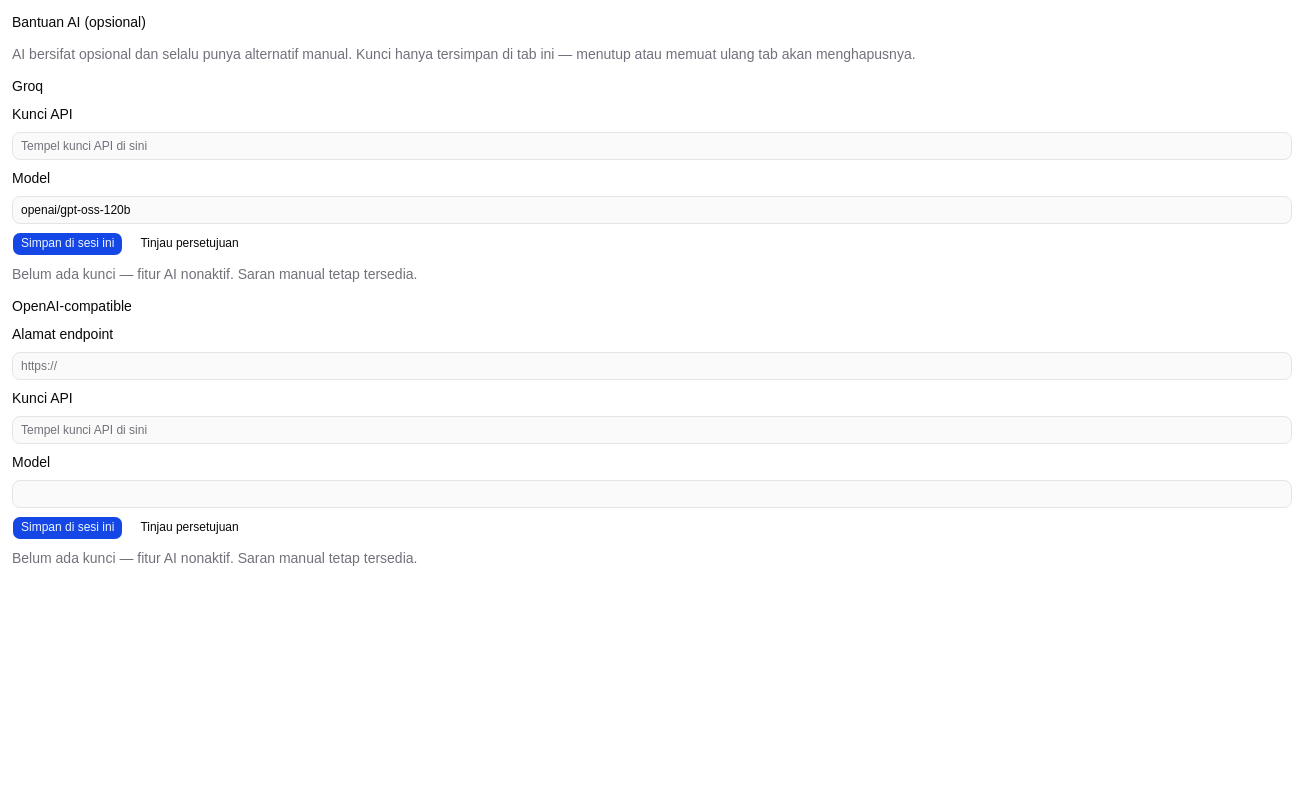
AiSettings (Task 18, FR-407/408/110) › rejects invalid endpoints and incomplete forms before saving
The width and height of the screenshot is (1304, 812).
Type "http://example.com" into the field labelled "Alamat endpoint" at (652, 366), box [12,352,1292,380]
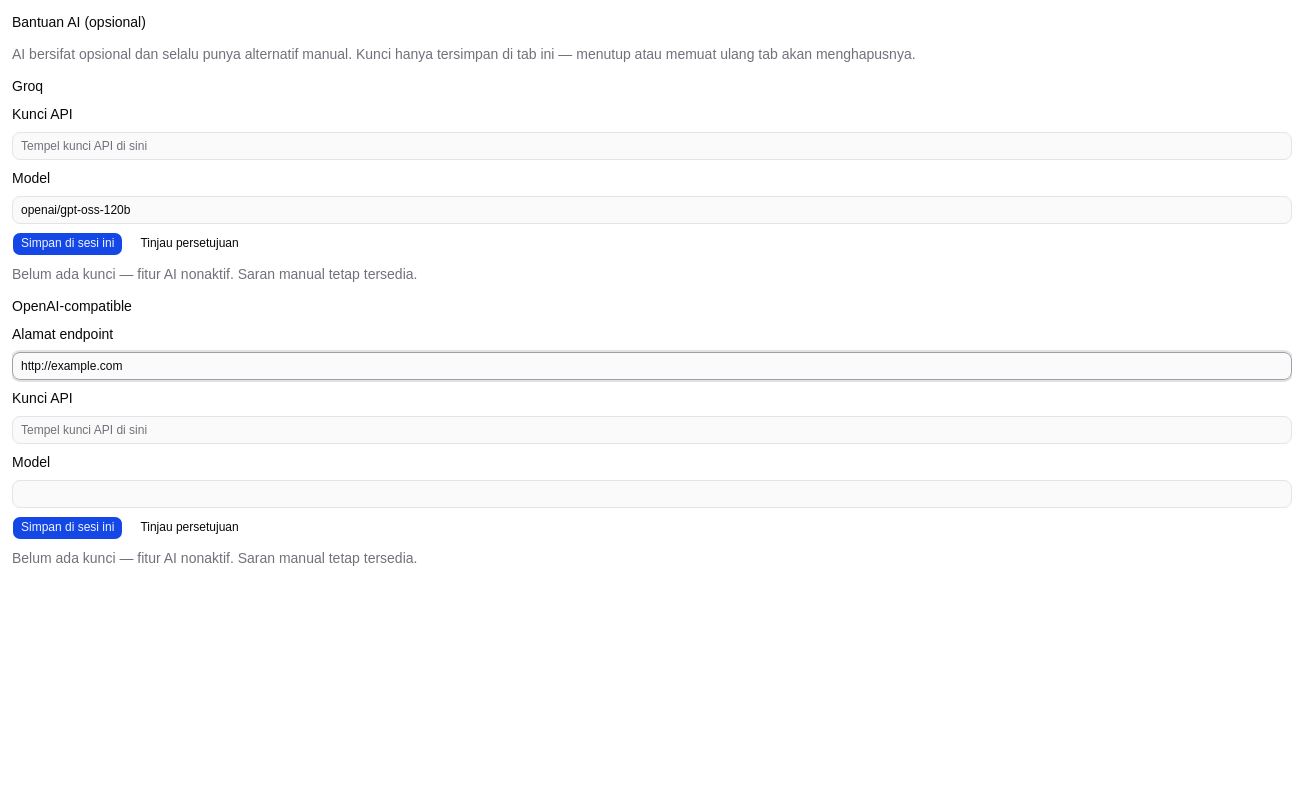
Click the button "Simpan di sesi ini" below "Alamat endpoint" at (68, 528), box [12,516,123,540]
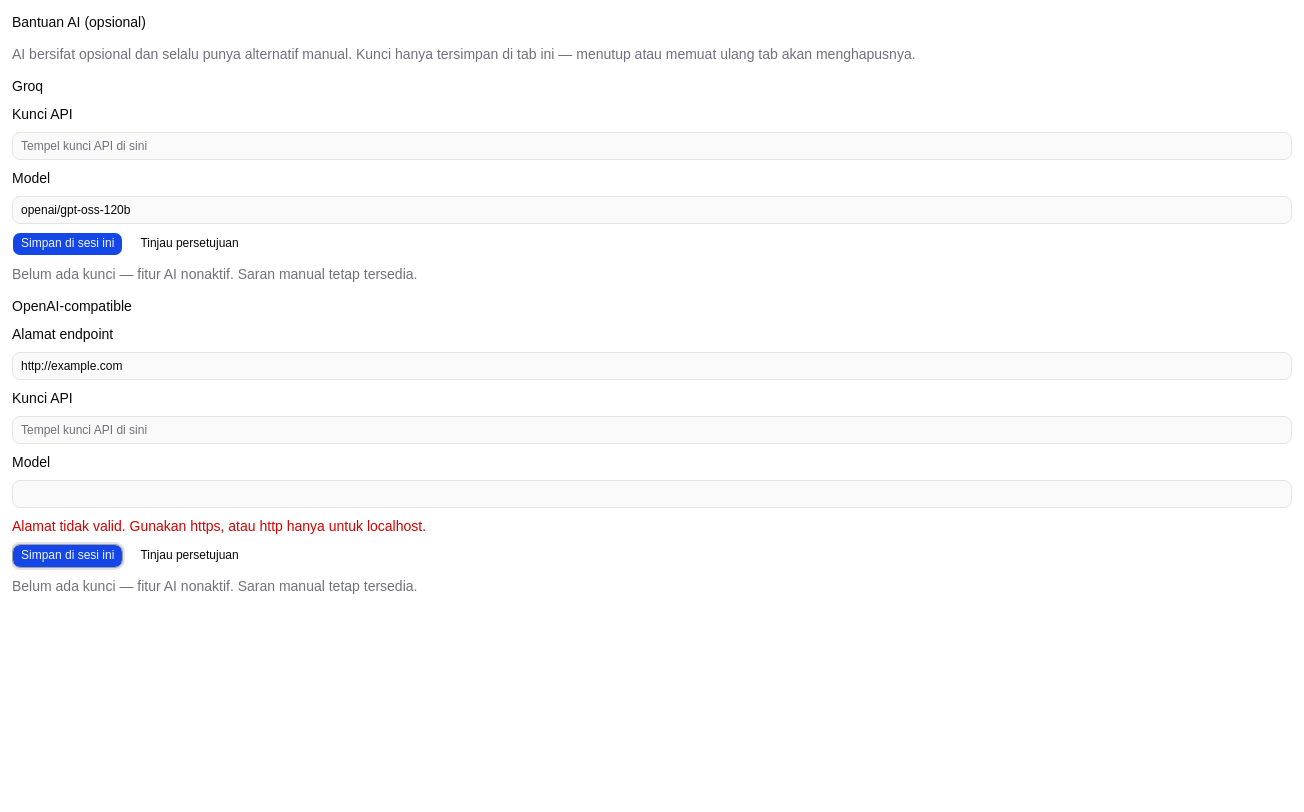
Expected: the text "Alamat tidak valid. Gunakan https, atau http hanya untuk localhost." is shown, [12,518,426,534]
